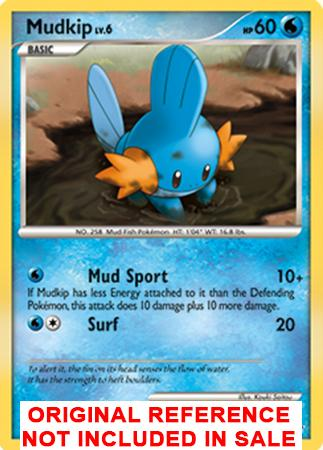mudkip: (84, 43, 238, 219)
